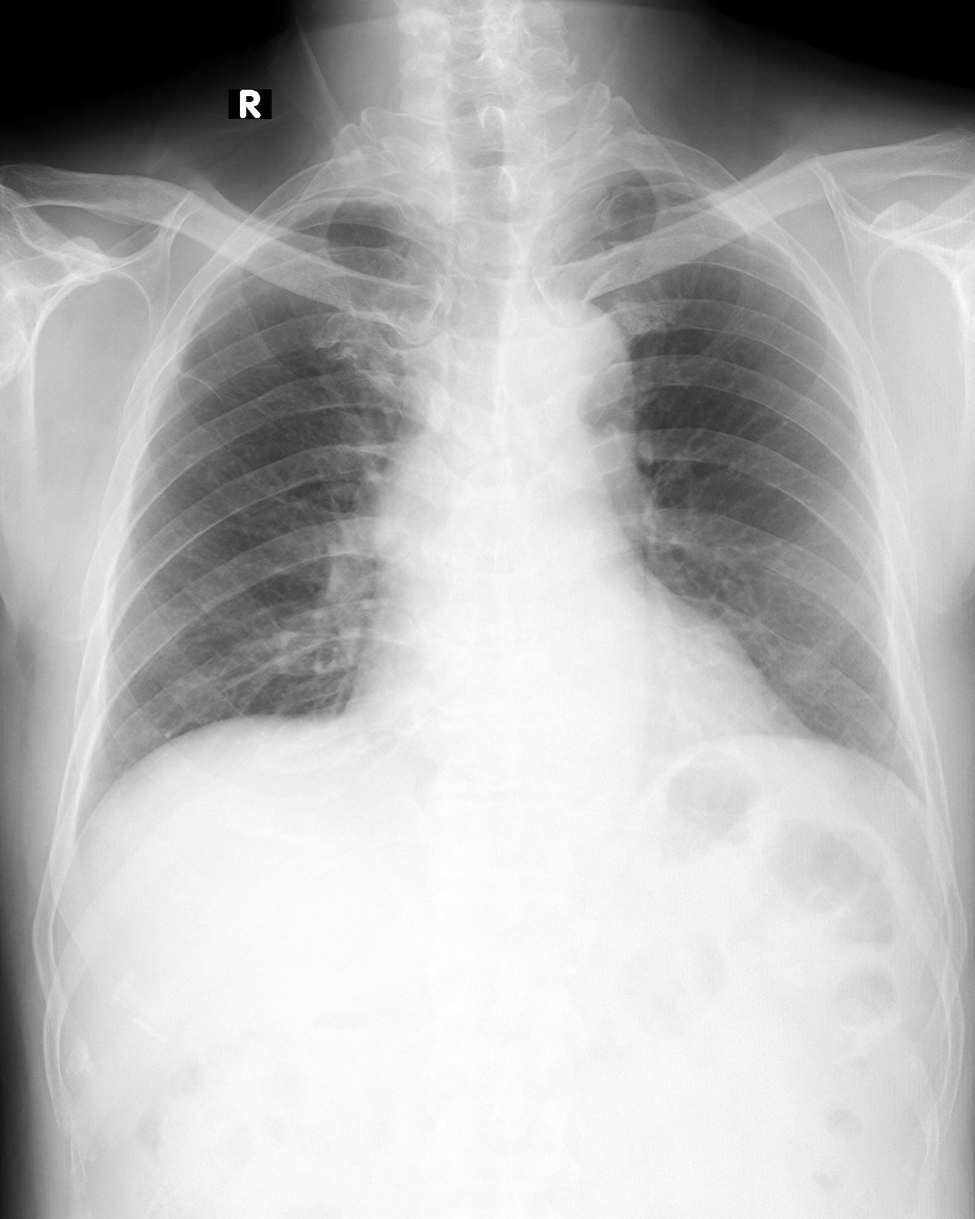Aortic enlargement: (501, 303, 635, 436)
Cardiomegaly: (353, 618, 779, 764)
Pleural thickening: (141, 281, 215, 433), (270, 186, 412, 229), (566, 169, 722, 207)
Pulmonary fibrosis: (182, 371, 223, 405)
